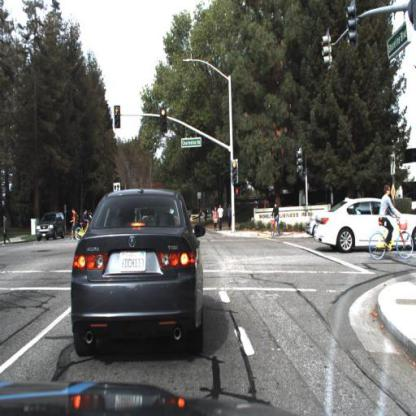biker: (270, 201, 280, 239)
car: (70, 186, 208, 360), (314, 197, 416, 255), (37, 209, 68, 241), (304, 210, 322, 241)
pedestrian: (2, 213, 14, 247), (254, 198, 264, 231), (70, 207, 79, 241), (212, 205, 221, 232), (71, 208, 78, 239), (217, 203, 225, 230), (219, 203, 226, 232), (213, 207, 220, 231), (261, 196, 269, 214)
trafficLight-Red: (231, 158, 240, 185), (159, 105, 167, 135)
trafficLight-RedLeft: (114, 103, 122, 130)
